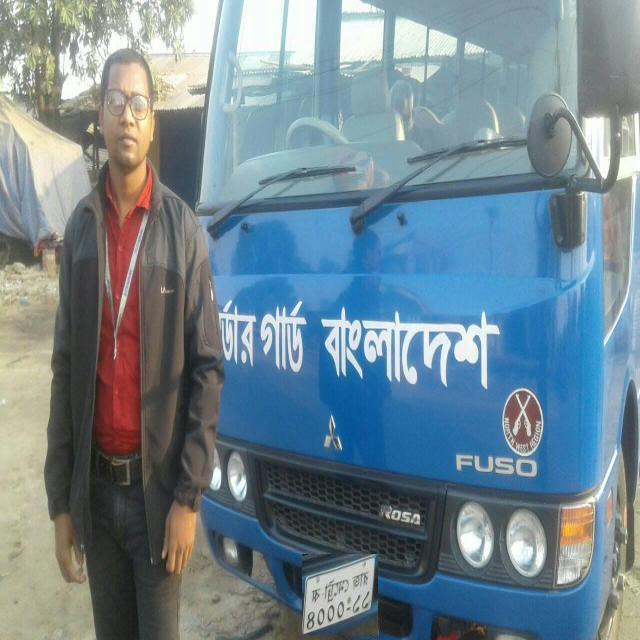numberplate: (302, 554, 378, 635)
